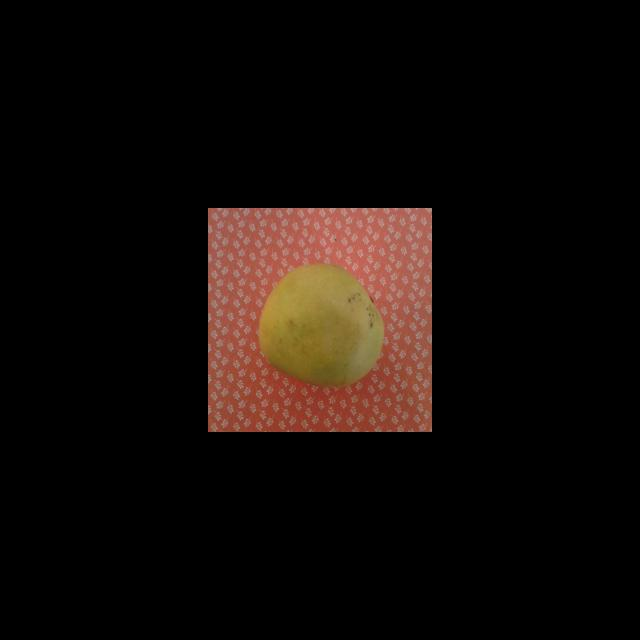Mango: (257, 262, 385, 387)
